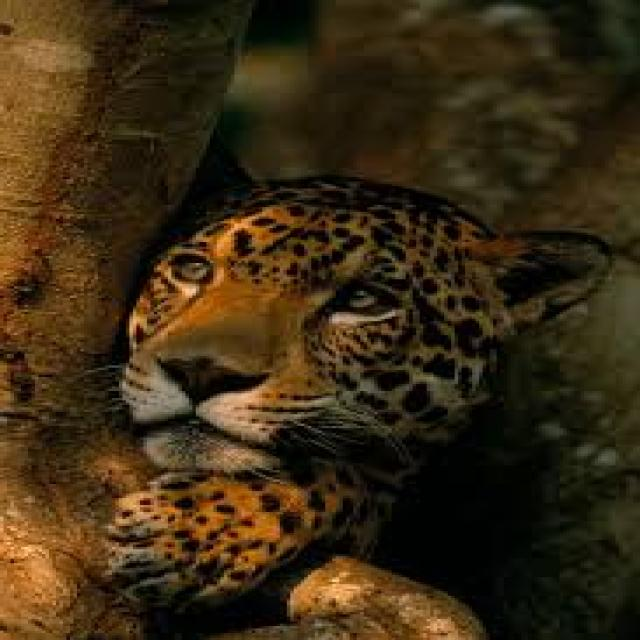Jaguar: (108, 135, 622, 619)
